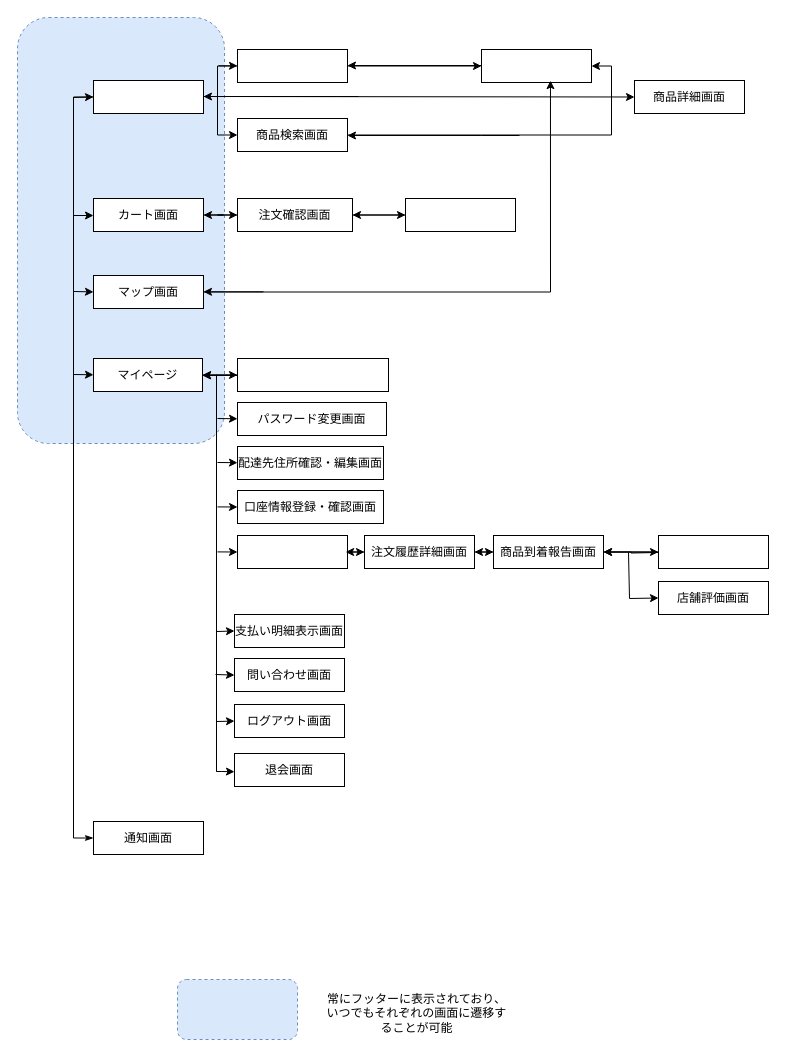
Image size: 786x1057. Some labels were removed from this diagram. The shapes that lost their labels are listed below. From the top down, each one's centre as x and y in pixels, then its label:
At pixel 292 65: "店舗検索画面".
At pixel 536 65: "店舗情報確認画面".
At pixel 148 97: "ホーム画面".
At pixel 460 215: "注文確定画面".
At pixel 312 375: "会員情報確認・編集画面".
At pixel 292 551: "注文履歴一覧画面".
At pixel 713 551: "配達員評価画面".
